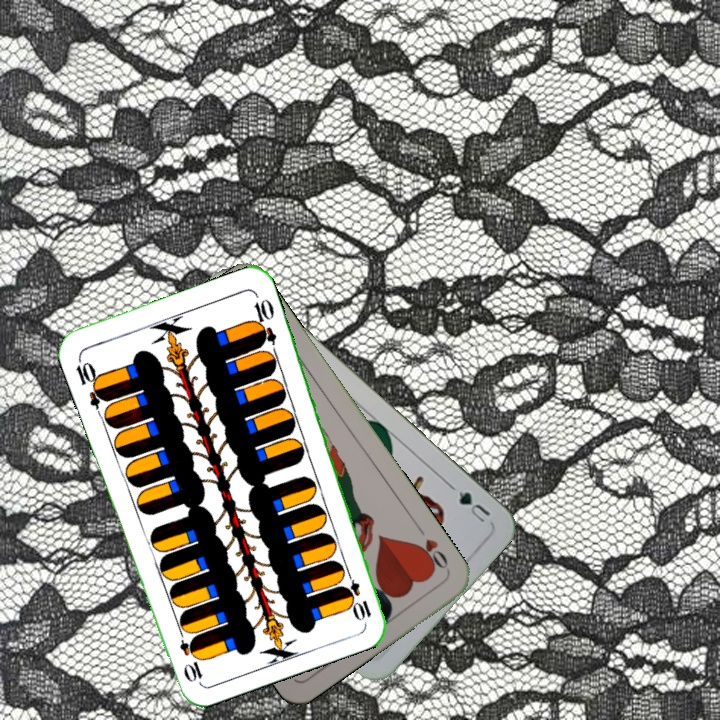E10: (71, 353, 110, 411), (340, 565, 374, 623)
GU: (454, 486, 493, 526)
HO: (411, 522, 452, 575)
